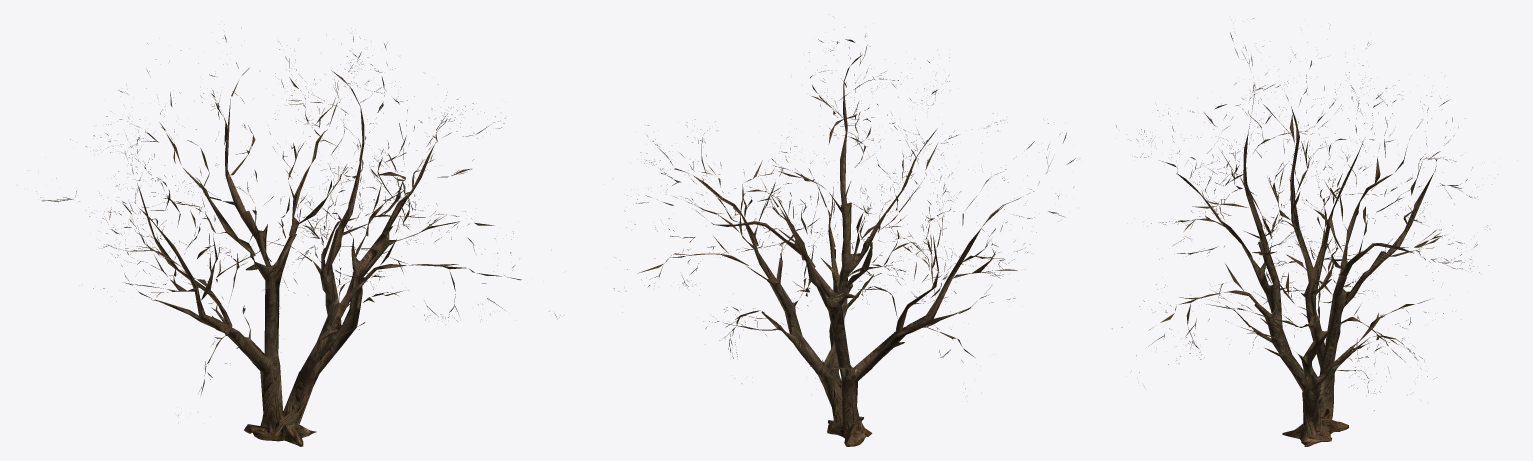
The model's file is jacaranda.glb.
3 views of the same model, side by side, from view 1: azimuth 30°, elevation 25°; view 2: azimuth 150°, elevation 25°; view 3: azimuth 270°, elevation 25° (orthographic). The views are drawn at different scales.
Visible parts, largest first — view 1: lod0; view 2: lod0; view 3: lod0.
Boxes of the visible parts, x1,y1,x2,y2 form: lod0: (36, 27, 560, 446); lod0: (613, 27, 1075, 446); lod0: (1112, 18, 1490, 446).
Size of what is drawn, in the model's own units: 23.64 by 19.32 by 18.48.
Materials: 2 (2 with a texture image).
